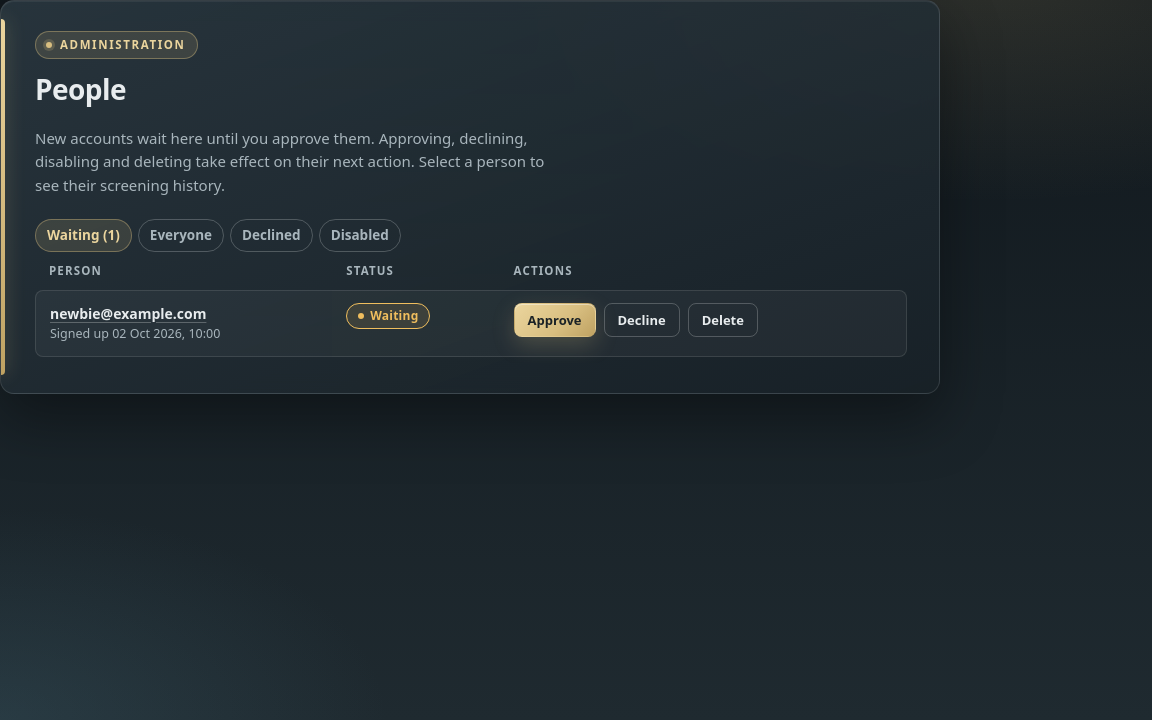
Test: People › approves someone with one click and the list updates
Click the button "Approve". click: click(555, 320)
box: 514,303 -> 596,337
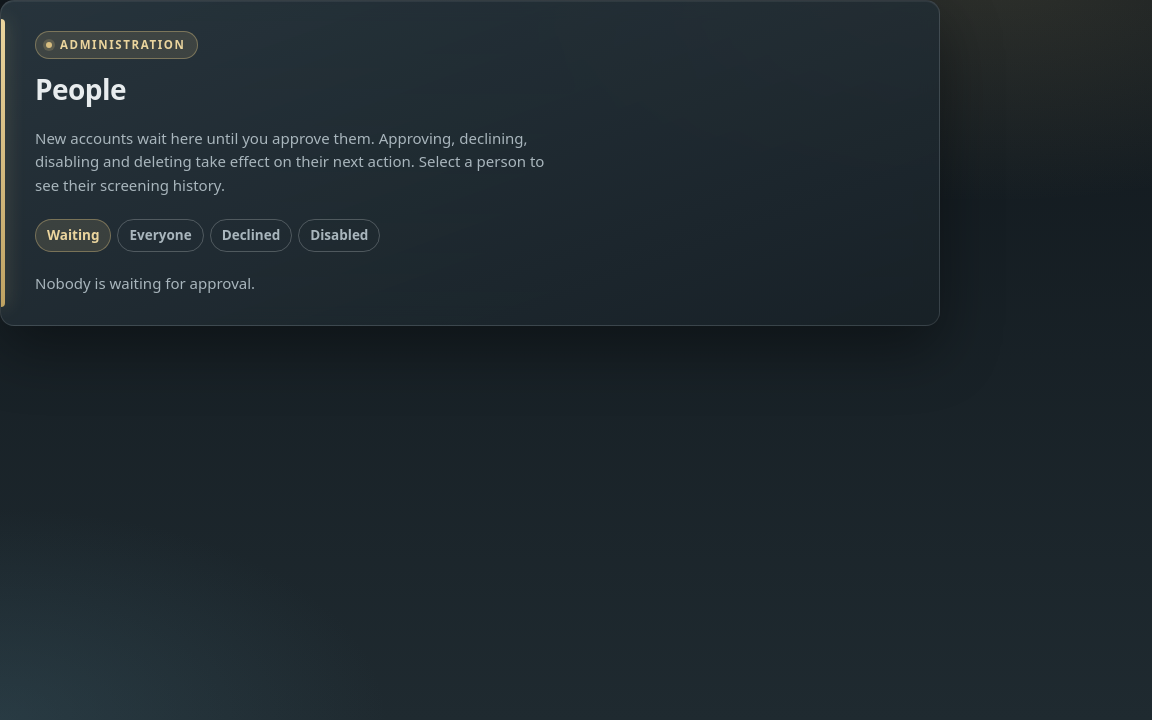
Expected: the text "Nobody is waiting for approval." is shown, 35,273 -> 255,293
